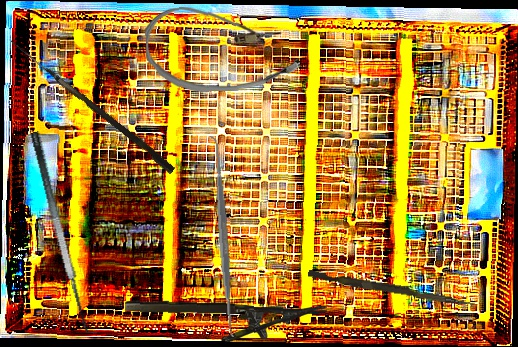Cannula: (144, 3, 301, 94)
Hook Surgical: (4, 39, 178, 175)
Needle Holder: (123, 298, 328, 346)
Pusher: (307, 269, 476, 308)
Spatula Surgical: (29, 127, 104, 337), (204, 134, 242, 338)
